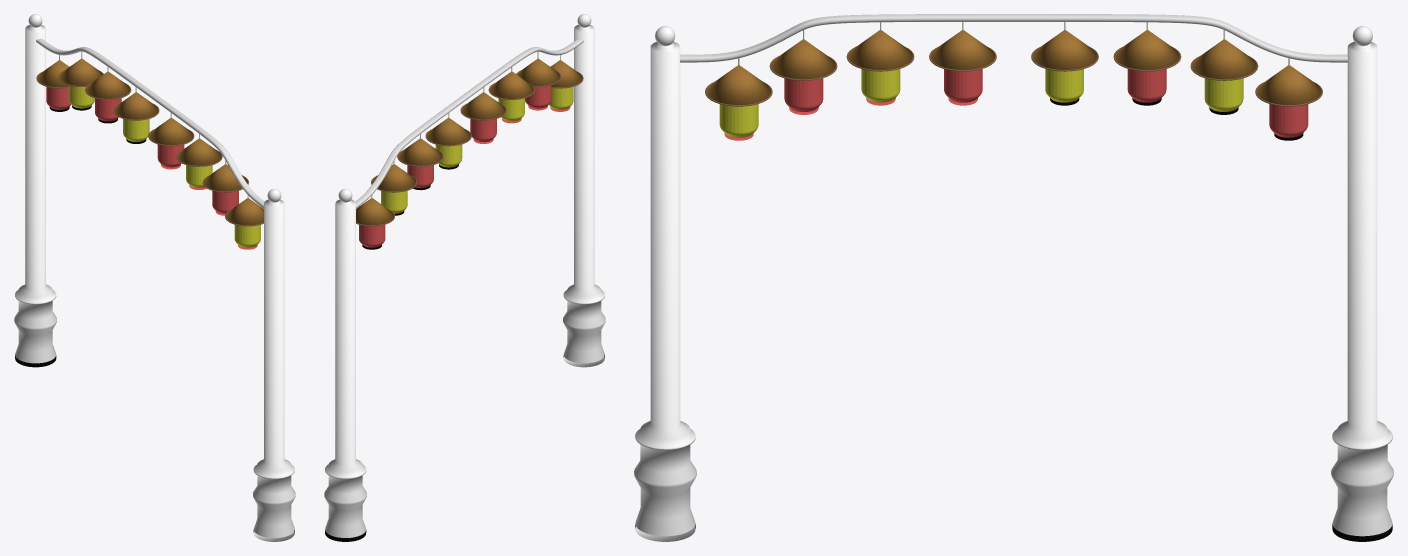
File: lampion.glb
3 renders of one model, left to right at view 1: azimuth 30°, elevation 25°; view 2: azimuth 150°, elevation 25°; view 3: azimuth 270°, elevation 25°, orthographic. The views are drawn at different scales.
Parts seen in each view (by area): view 1: Cylinder.003, NurbsPath.001, NurbsPath; view 2: Cylinder.003, NurbsPath, NurbsPath.001; view 3: Cylinder.003, NurbsPath, NurbsPath.001.
Boxes of the visible parts, x1,y1,x2,y2 form: Cylinder.003: (14,14,295,541); NurbsPath.001: (151,94,264,208); NurbsPath: (36,38,155,97); Cylinder.003: (324,14,605,541); NurbsPath: (355,94,468,208); NurbsPath.001: (464,38,583,97); Cylinder.003: (634,26,1393,541); NurbsPath: (1014,14,1347,62); NurbsPath.001: (680,14,1013,62).
Size of the model in its own units: 2.71 by 22.63 by 30.37.
